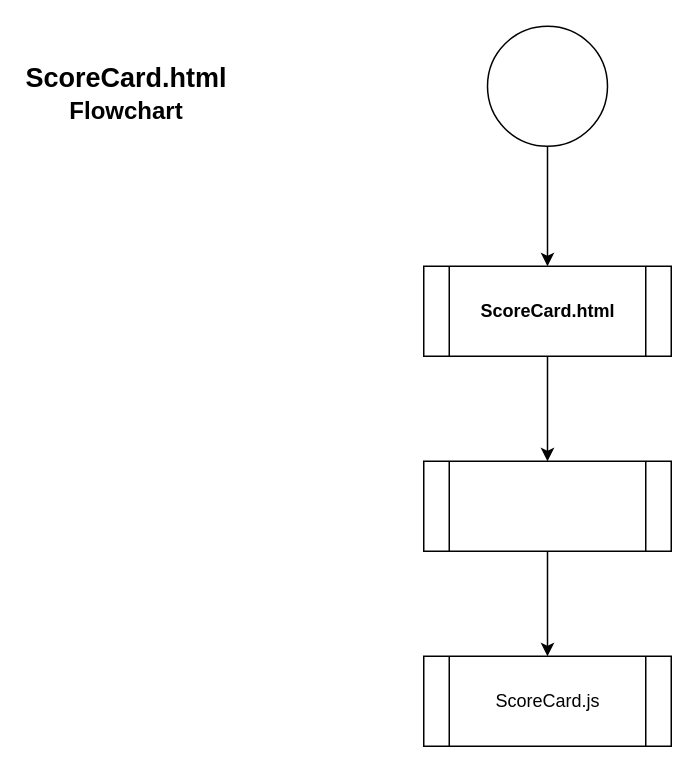
Image size: 698x773. Some labels were removed from this diagram. The shapes that lost their labels are listed below. From the top down, each one's box as (x1, y1, x2, y2) in pixels, then its label:
(486, 25, 608, 146): start load page
(422, 460, 671, 551): Yahtzee.js
